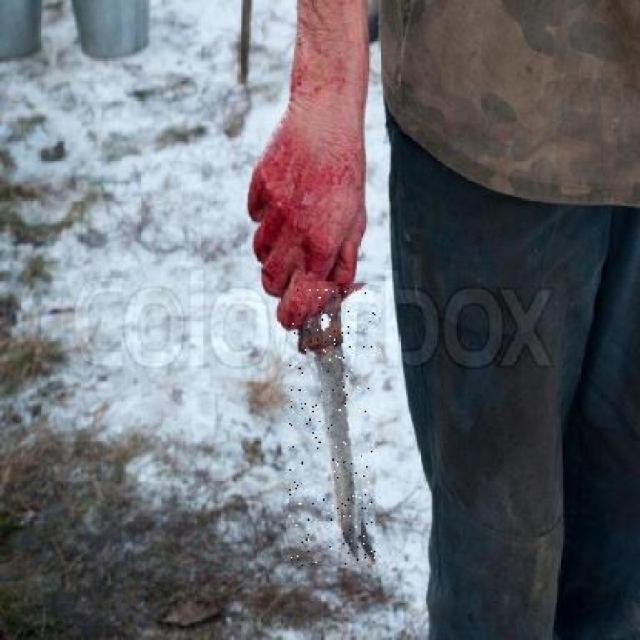knife: (289, 283, 375, 566)
